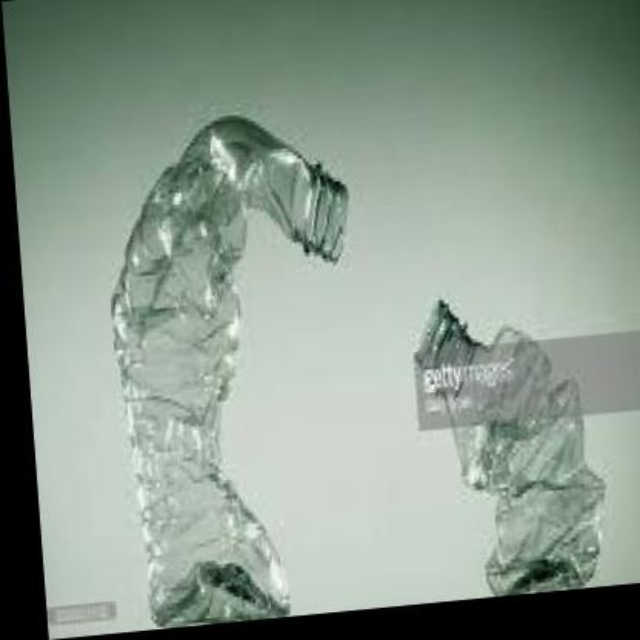trash: (112, 115, 346, 625), (414, 300, 603, 594)
